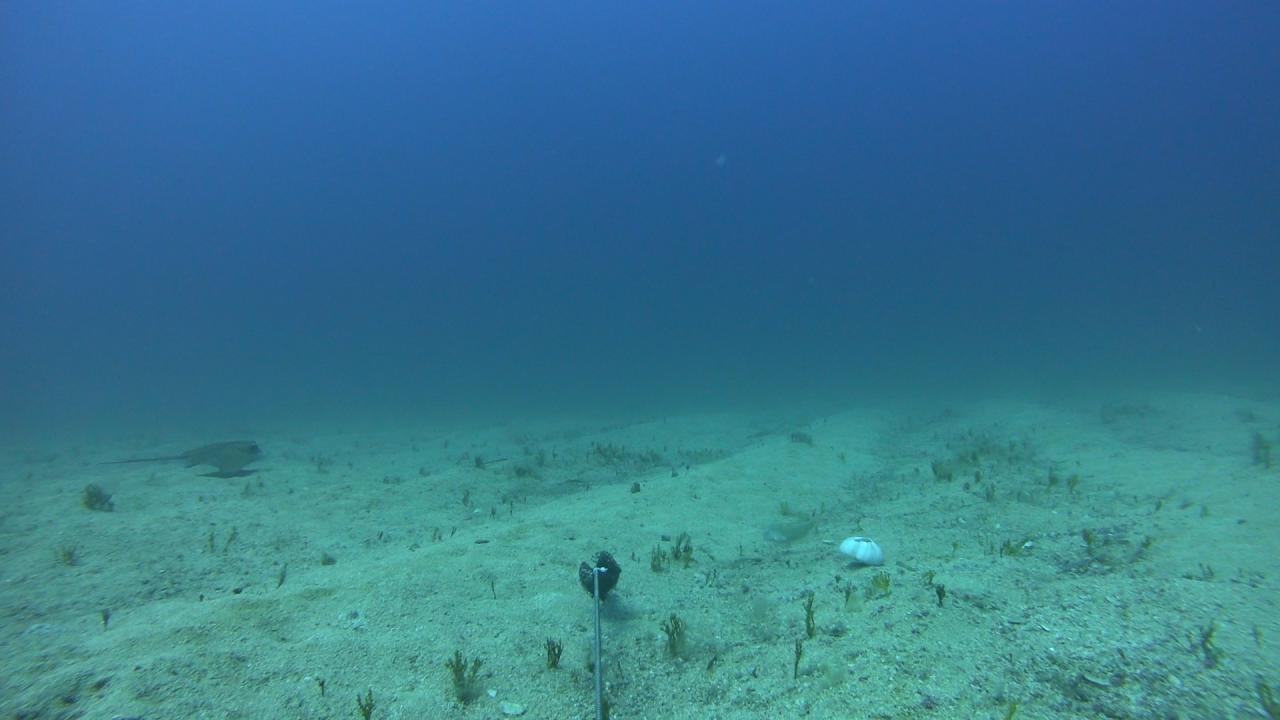dasyatis: (98, 439, 269, 474)
raor: (759, 511, 822, 545)
